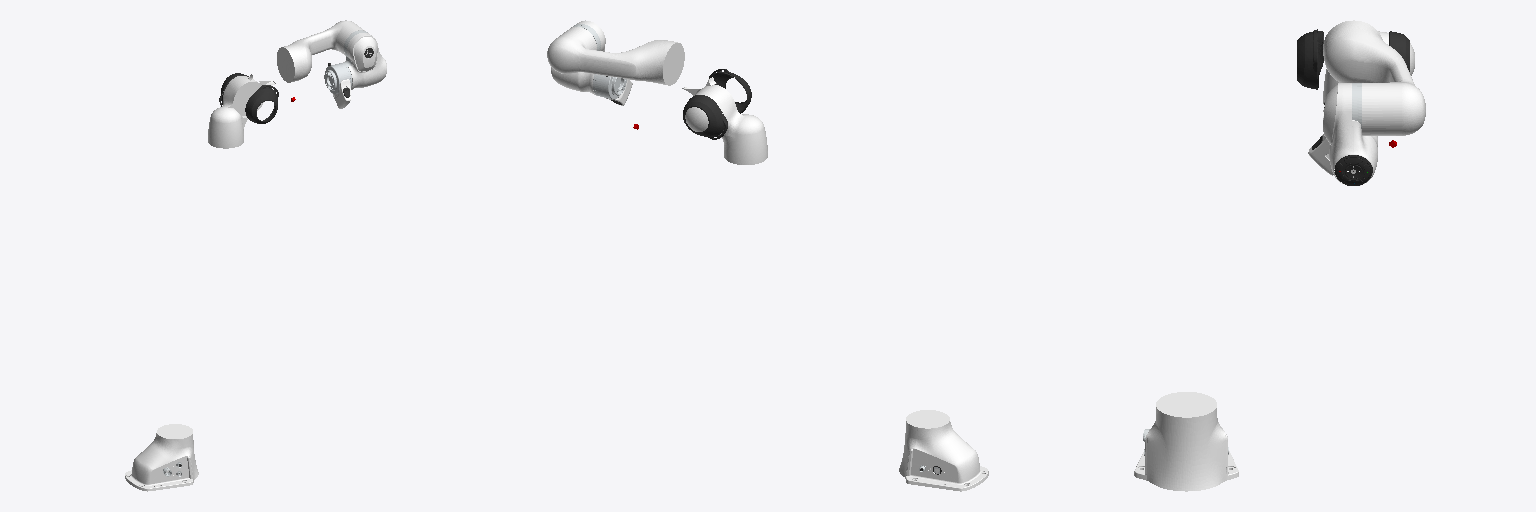
The robot description file, URDF, robot "panda":
<?xml version="1.0" ?>
<!-- =================================================================================== -->
<!-- |    This document was autogenerated by xacro from panda_arm.urdf.xacro           | -->
<!-- |    EDITING THIS FILE BY HAND IS NOT RECOMMENDED                                 | -->
<!-- =================================================================================== -->
<robot name="panda" xmlns:xacro="http://www.ros.org/wiki/xacro">
  <link name="panda_link0">
    <inertial>
      <!--      <origin
        xyz="-1.6981669084292E-15 0 -9.28958911114441E-07"
        rpy="0 0 0" />-->
      <origin rpy="0 0 0" xyz="0 0 0"/>
      <mass value="1.43675504024173"/>
      <inertia ixx="0" ixy="0" ixz="0" iyy="0" iyz="0" izz="0"/>
    </inertial>
    <visual>
      <geometry>
        <mesh filename="package://franka_description/meshes/visual/link0.dae"/>
      </geometry>
    </visual>
    <collision>
      <geometry>
        <mesh filename="package://franka_description/meshes/collision/link0.stl"/>
      </geometry>
    </collision>
  </link>
  <link name="panda_link1_l">
    <inertial>
      <!--      <origin
        xyz="-1.6981669084292E-15 0 -9.28958911114441E-07"
        rpy="0 0 0" />-->
      <origin rpy="0 0 0" xyz="0 0 0"/>
      <mass value="1.43675504024173"/>
      <inertia ixx="0" ixy="0" ixz="0" iyy="0" iyz="0" izz="0"/>
    </inertial>
    <visual>
      <geometry>
        <mesh filename="package://franka_description/meshes/visual/link1.dae"/>
      </geometry>
    </visual>
    <collision>
      <geometry>
        <mesh filename="package://franka_description/meshes/collision/link1.stl"/>
      </geometry>
    </collision>
  </link>
  <joint name="panda_joint1_l" type="revolute">
    <safety_controller k_position="100.0" k_velocity="40.0" soft_lower_limit="-2.8973" soft_upper_limit="2.8973"/>
    <origin rpy="0 0 0" xyz="0.35 0.3 0.708"/>
    <parent link="panda_link0"/>
    <child link="panda_link1_l"/>
    <axis xyz="0 0 1"/>
    <limit effort="87" lower="-2.8973" upper="2.8973" velocity="2.1750"/>
  </joint>
  <link name="panda_link2_l">
    <inertial>
      <!--      <origin
        xyz="-1.6981669084292E-15 0 -9.28958911114441E-07"
        rpy="0 0 0" />-->
      <origin rpy="0 0 0" xyz="0 0 0"/>
      <mass value="1.43675504024173"/>
      <inertia ixx="0" ixy="0" ixz="0" iyy="0" iyz="0" izz="0"/>
    </inertial>
    <visual>
      <geometry>
        <mesh filename="package://franka_description/meshes/visual/link2.dae"/>
      </geometry>
    </visual>
    <collision>
      <geometry>
        <mesh filename="package://franka_description/meshes/collision/link2.stl"/>
      </geometry>
    </collision>
  </link>
  <joint name="panda_joint2_l" type="revolute">
    <safety_controller k_position="100.0" k_velocity="40.0" soft_lower_limit="-1.7628" soft_upper_limit="1.7628"/>
    <origin rpy="-1.57079632679 0 0" xyz="0 0 0"/>
    <parent link="panda_link1_l"/>
    <child link="panda_link2_l"/>
    <axis xyz="0 0 1"/>
    <limit effort="87" lower="-1.7628" upper="1.7628" velocity="2.1750"/>
  </joint>
  <link name="panda_link3_l">
    <inertial>
      <!--      <origin
        xyz="-1.6981669084292E-15 0 -9.28958911114441E-07"
        rpy="0 0 0" />-->
      <origin rpy="0 0 0" xyz="0 0 0"/>
      <mass value="1.43675504024173"/>
      <inertia ixx="0" ixy="0" ixz="0" iyy="0" iyz="0" izz="0"/>
    </inertial>
    <visual>
      <geometry>
        <mesh filename="package://franka_description/meshes/visual/link3.dae"/>
      </geometry>
    </visual>
    <collision>
      <geometry>
        <mesh filename="package://franka_description/meshes/collision/link3.stl"/>
      </geometry>
    </collision>
  </link>
  <joint name="panda_joint3_l" type="revolute">
    <safety_controller k_position="100.0" k_velocity="40.0" soft_lower_limit="-2.8973" soft_upper_limit="2.8973"/>
    <origin rpy="1.57079632679 0 0" xyz="0 -0.316 0"/>
    <parent link="panda_link2_l"/>
    <child link="panda_link3_l"/>
    <axis xyz="0 0 1"/>
    <limit effort="87" lower="-2.8973" upper="2.8973" velocity="2.1750"/>
  </joint>
  <link name="panda_link4_l">
    <inertial>
      <!--      <origin
        xyz="-1.6981669084292E-15 0 -9.28958911114441E-07"
        rpy="0 0 0" />-->
      <origin rpy="0 0 0" xyz="0 0 0"/>
      <mass value="1.43675504024173"/>
      <inertia ixx="0" ixy="0" ixz="0" iyy="0" iyz="0" izz="0"/>
    </inertial>
    <visual>
      <geometry>
        <mesh filename="package://franka_description/meshes/visual/link4.dae"/>
      </geometry>
    </visual>
    <collision>
      <geometry>
        <mesh filename="package://franka_description/meshes/collision/link4.stl"/>
      </geometry>
    </collision>
  </link>
  <joint name="panda_joint4_l" type="revolute">
    <safety_controller k_position="100.0" k_velocity="40.0" soft_lower_limit="-3.0718" soft_upper_limit="-0.0698"/>
    <origin rpy="1.57079632679 0 0" xyz="0.0825 0 0"/>
    <parent link="panda_link3_l"/>
    <child link="panda_link4_l"/>
    <axis xyz="0 0 1"/>
    <limit effort="87" lower="-3.0718" upper="-0.0698" velocity="2.1750"/>
  </joint>
  <link name="panda_link5_l">
    <inertial>
      <!--      <origin
        xyz="-1.6981669084292E-15 0 -9.28958911114441E-07"
        rpy="0 0 0" />-->
      <origin rpy="0 0 0" xyz="0 0 0"/>
      <mass value="1.43675504024173"/>
      <inertia ixx="0" ixy="0" ixz="0" iyy="0" iyz="0" izz="0"/>
    </inertial>
    <visual>
      <geometry>
        <mesh filename="package://franka_description/meshes/visual/link5.dae"/>
      </geometry>
    </visual>
    <collision>
      <geometry>
        <mesh filename="package://franka_description/meshes/collision/link5.stl"/>
      </geometry>
    </collision>
  </link>
  <joint name="panda_joint5_l" type="revolute">
    <safety_controller k_position="100.0" k_velocity="40.0" soft_lower_limit="-2.8973" soft_upper_limit="2.8973"/>
    <origin rpy="-1.57079632679 0 0" xyz="-0.0825 0.384 0"/>
    <parent link="panda_link4_l"/>
    <child link="panda_link5_l"/>
    <axis xyz="0 0 1"/>
    <limit effort="12" lower="-2.8973" upper="2.8973" velocity="2.6100"/>
  </joint>
  <link name="panda_link6_l">
    <inertial>
      <!--      <origin
        xyz="-1.6981669084292E-15 0 -9.28958911114441E-07"
        rpy="0 0 0" />-->
      <origin rpy="0 0 0" xyz="0 0 0"/>
      <mass value="1.43675504024173"/>
      <inertia ixx="0" ixy="0" ixz="0" iyy="0" iyz="0" izz="0"/>
    </inertial>
    <visual>
      <geometry>
        <mesh filename="package://franka_description/meshes/visual/link6.dae"/>
      </geometry>
    </visual>
    <collision>
      <geometry>
        <mesh filename="package://franka_description/meshes/collision/link6.stl"/>
      </geometry>
    </collision>
  </link>
  <joint name="panda_joint6_l" type="revolute">
    <safety_controller k_position="100.0" k_velocity="40.0" soft_lower_limit="-0.0175" soft_upper_limit="3.7525"/>
    <origin rpy="1.57079632679 0 0" xyz="0 0 0"/>
    <parent link="panda_link5_l"/>
    <child link="panda_link6_l"/>
    <axis xyz="0 0 1"/>
    <limit effort="12" lower="-0.0175" upper="3.7525" velocity="2.6100"/>
  </joint>
  <link name="panda_link7_l">
    <inertial>
      <!--      <origin
        xyz="-1.6981669084292E-15 0 -9.28958911114441E-07"
        rpy="0 0 0" />-->
      <origin rpy="0 0 0" xyz="0 0 0"/>
      <mass value="1.43675504024173"/>
      <inertia ixx="0" ixy="0" ixz="0" iyy="0" iyz="0" izz="0"/>
    </inertial>
    <visual>
      <geometry>
        <mesh filename="package://franka_description/meshes/visual/link7.dae"/>
      </geometry>
    </visual>
    <collision>
      <geometry>
        <mesh filename="package://franka_description/meshes/collision/link7.stl"/>
      </geometry>
    </collision>
  </link>
  <joint name="panda_joint7_l" type="revolute">
    <safety_controller k_position="100.0" k_velocity="40.0" soft_lower_limit="-2.8973" soft_upper_limit="2.8973"/>
    <origin rpy="1.57079632679 0 0" xyz="0.088 0 0"/>
    <parent link="panda_link6_l"/>
    <child link="panda_link7_l"/>
    <axis xyz="0 0 1"/>
    <limit effort="12" lower="-2.8973" upper="2.8973" velocity="2.6100"/>
  </joint>
  <link name="panda_link8_l">
    <visual>
      <origin xyz="0 0 0" rpy="0 0 0"/>
      <geometry>
        <box size="0.01 0.01 0.01" />
      </geometry>
      <material
        name="">
        <color
          rgba="0.8 0.0 0.0 1.0" />
      </material>
     </visual>

    <inertial>
      <origin xyz="0.0 0.0 0.0" rpy="0 0 0"/>
      <mass value="0.001"/>
      <inertia ixx="1.0e-06" ixy="0.0" ixz="0.0" iyy="1.0e-06" iyz="0.0" izz="1.0e-06" />
    </inertial>
  </link>


  <joint name="panda_joint8_l" type="fixed">
      <origin rpy="3.141592654 0 -0.785398163" xyz="0.07071 -0.07071 0.1923"/>
    <parent link="panda_link7_l"/>
    <child link="panda_link8_l"/>
    <axis xyz="0 0 0"/>
  </joint>
</robot>

--- Render facts (derived) ---
Views: 3 orthographic renders of the robot side by side, from view 1: azimuth 30°, elevation 25°; view 2: azimuth 150°, elevation 25°; view 3: azimuth 270°, elevation 25°.
Robot: panda — 9 links, 8 joints (7 revolute, 1 fixed); root link panda_link0; default pose: all joints at 0 but 1 set to mid-range because 0 is outside their limits (panda_joint4_l = -1.57).
Links seen in each view (by area): view 1: panda_link0, panda_link3_l, panda_link5_l, panda_link6_l, panda_link7_l, panda_link4_l; view 2: panda_link0, panda_link5_l, panda_link3_l, panda_link6_l, panda_link7_l, panda_link4_l; view 3: panda_link0, panda_link5_l, panda_link6_l, panda_link4_l, panda_link3_l, panda_link7_l.
Link boxes in pixels (x1,y1,x2,y2): panda_link0: (125, 424, 198, 491); panda_link3_l: (208, 73, 263, 148); panda_link5_l: (277, 20, 364, 82); panda_link6_l: (343, 30, 386, 89); panda_link7_l: (324, 63, 352, 108); panda_link4_l: (245, 74, 278, 123); panda_link0: (899, 410, 988, 491); panda_link5_l: (547, 27, 684, 85); panda_link3_l: (683, 85, 767, 164); panda_link6_l: (551, 20, 605, 95); panda_link7_l: (593, 74, 632, 105); panda_link4_l: (682, 69, 751, 113); panda_link0: (1134, 392, 1238, 491); panda_link5_l: (1323, 20, 1425, 135); panda_link6_l: (1323, 83, 1377, 185); panda_link4_l: (1297, 29, 1323, 89); panda_link3_l: (1323, 31, 1414, 103); panda_link7_l: (1308, 134, 1333, 175).
Bounding box of the posed robot: 1.05 × 0.5245 × 1.16 m (x, y, z).
6 mesh visuals loaded from 8 distinct referenced files (6 Collada DAE); not drawn: 2 (reference not matched to a file when rendering).